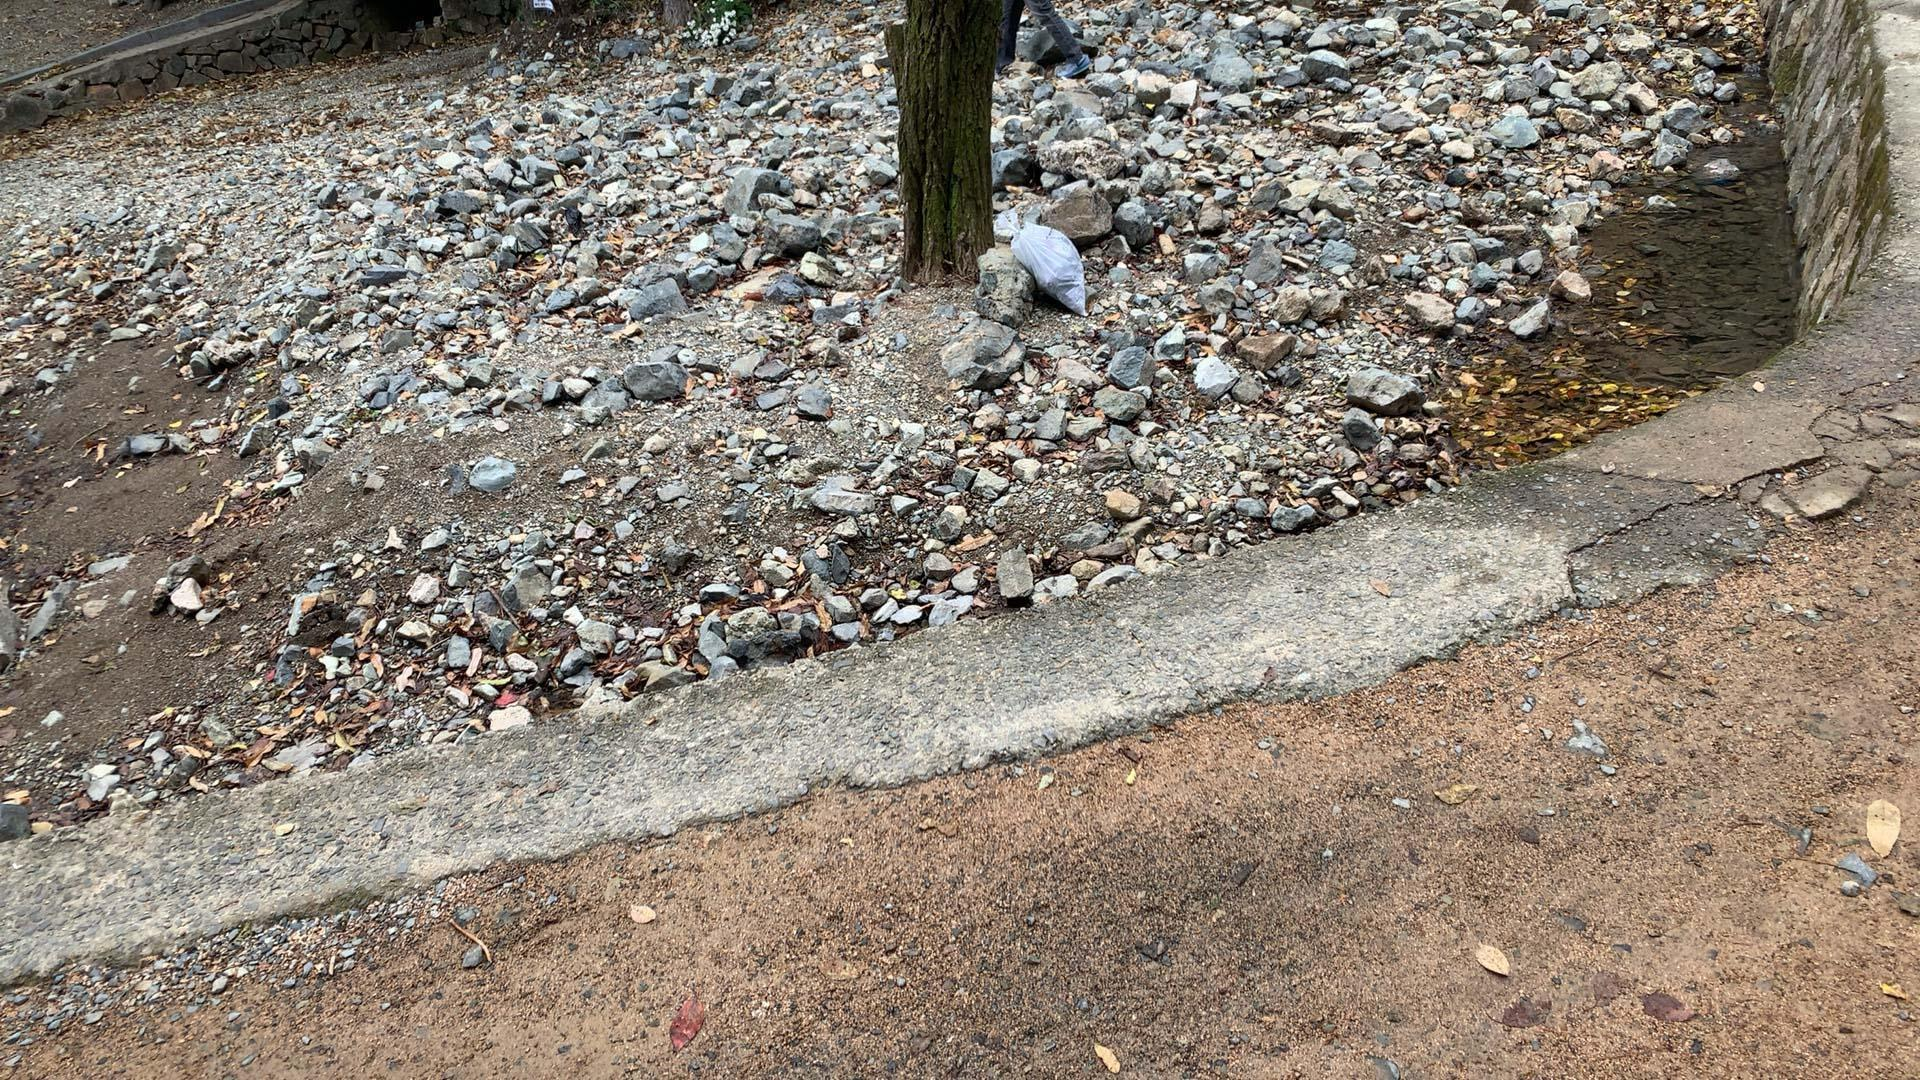white_bag: (994, 204, 1098, 323)
